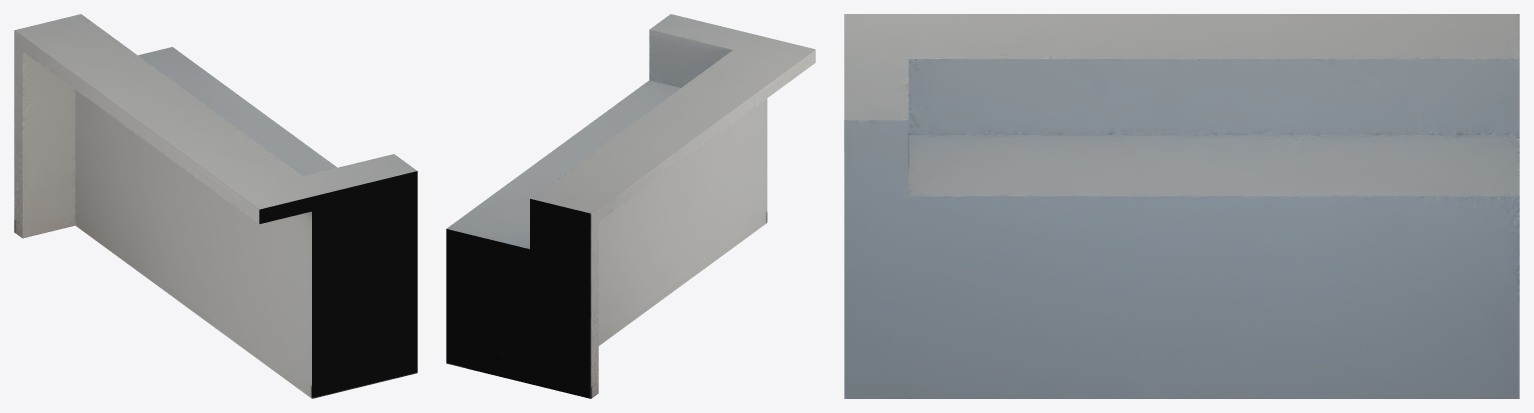
The model's file is counter.gltf.
3 views of the same model, side by side, from view 1: azimuth 30°, elevation 25°; view 2: azimuth 150°, elevation 25°; view 3: azimuth 270°, elevation 25° (orthographic). The views are drawn at different scales.
Parts seen in each view (by area): view 1: counter; view 2: counter; view 3: counter.
Part boxes in pixels (x1=…): counter: x1=14, y1=14, x2=417, y2=398; counter: x1=446, y1=14, x2=815, y2=398; counter: x1=844, y1=14, x2=1519, y2=398.
Size of the model in its own units: 0.9 by 1.1 by 2.41.
1 material, 1 textured.
